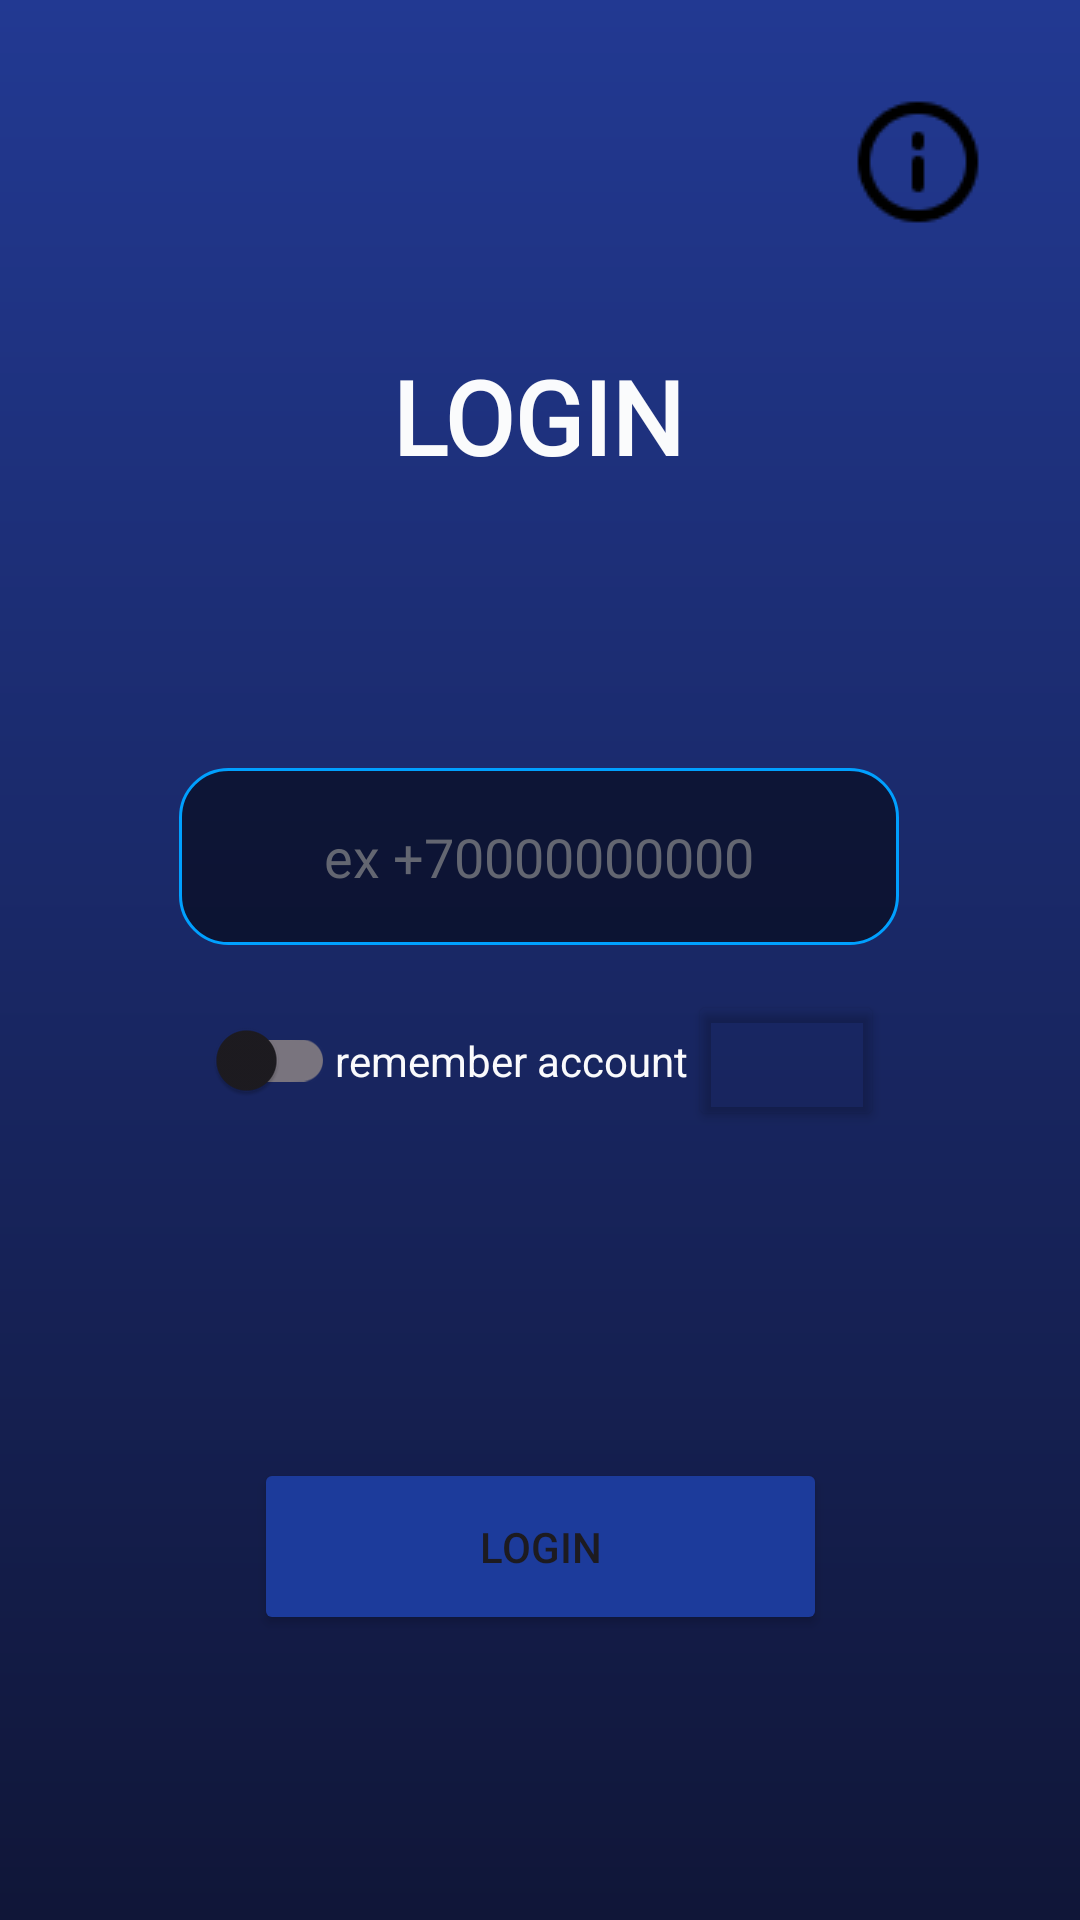

Named icons in this screenshot (1080x1920) and their centers, (x,y):
info: (918,162)
